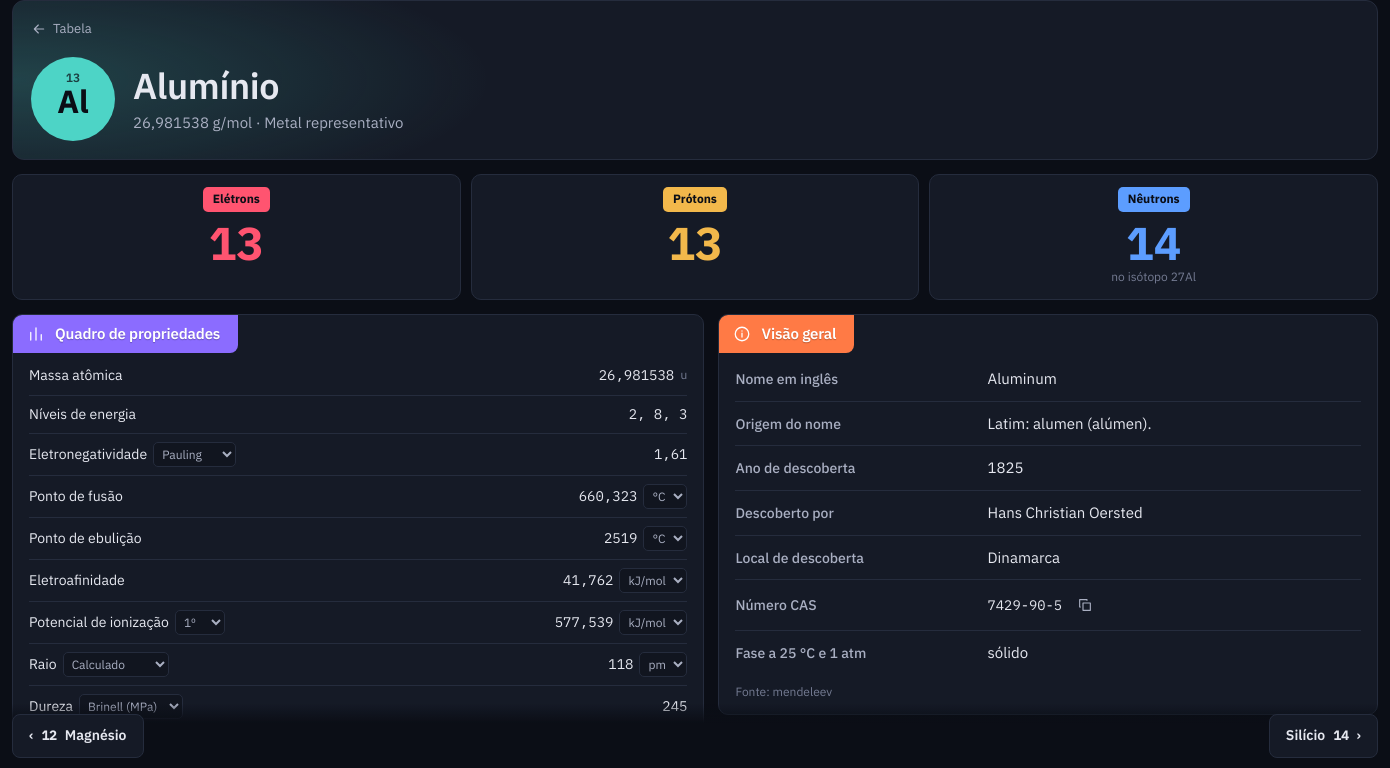
Test: páginas de elementos › navega para o próximo elemento
This screenshot has width=1390, height=768.
What coordinates should you click on to do the following:
click the button "Silício 14 ›"
I would click on:
 (1323, 736)
Its box is [1269,714,1378,758].
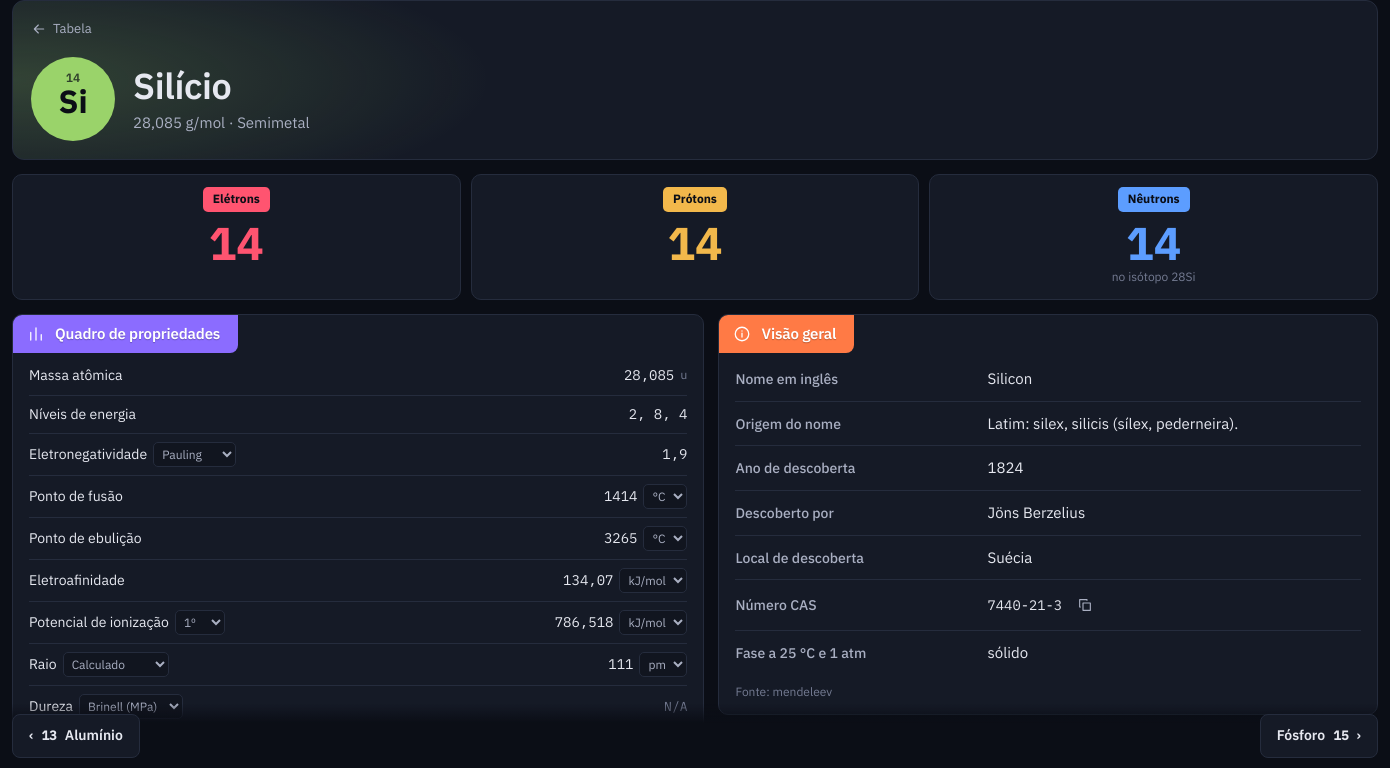
Now the heading "Silício" is shown, box [133,62,232,109]
